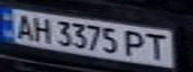3: (51, 18, 72, 48), (69, 20, 87, 51)
5: (100, 25, 124, 55)
7: (84, 23, 103, 53)
A: (9, 11, 39, 40)
H: (27, 15, 54, 44)
P: (121, 28, 151, 58)
T: (142, 30, 172, 61)
